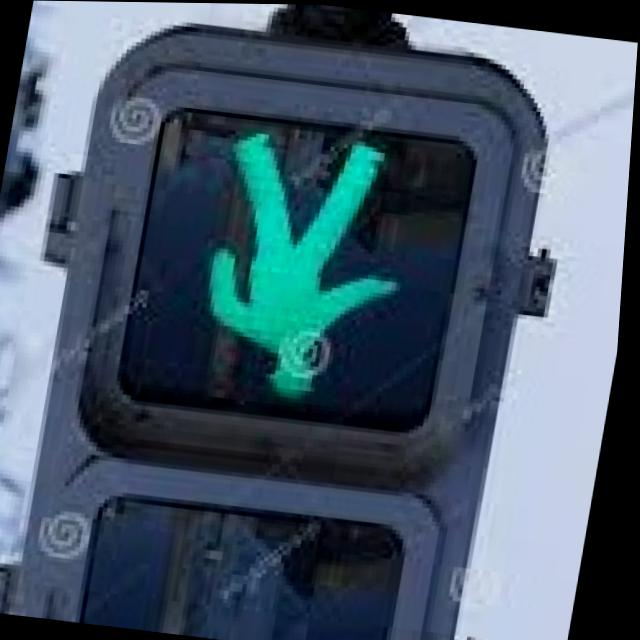green_light: (158, 128, 433, 428)
